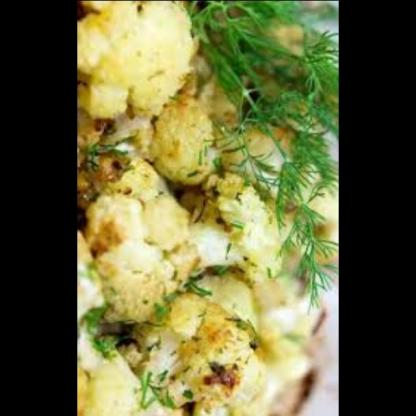cayliflower: (78, 165, 339, 415), (78, 0, 217, 116), (78, 94, 222, 200)
